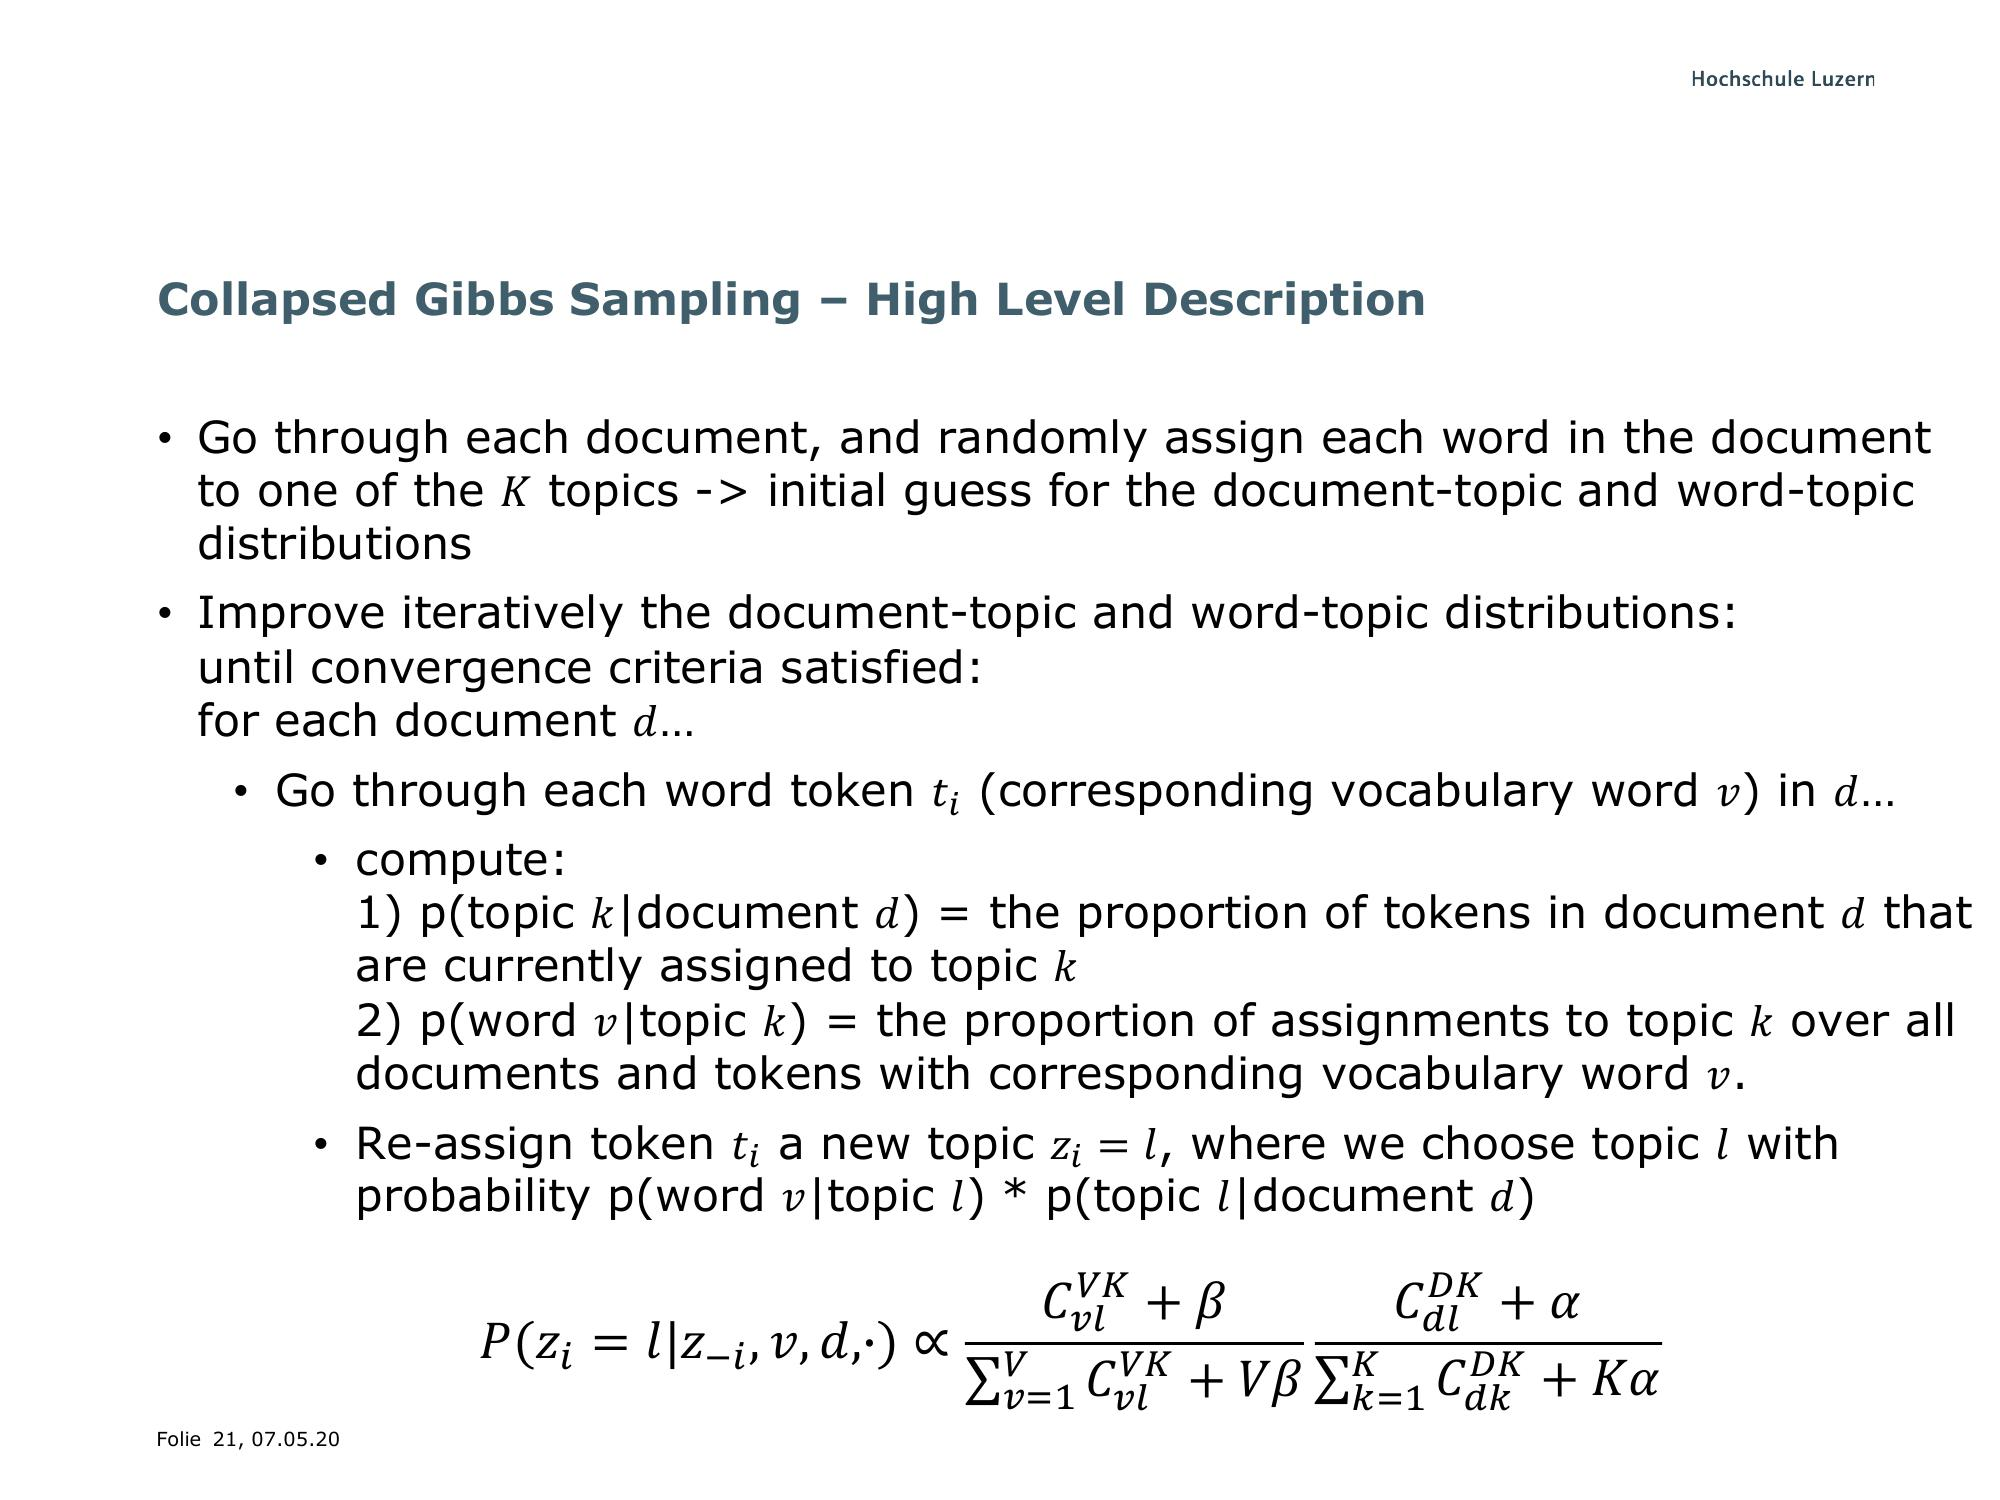Title: (139, 269, 1436, 331)
